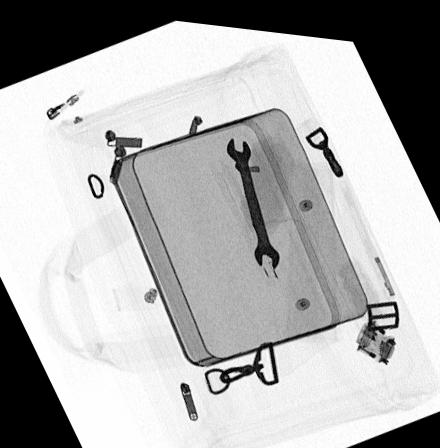Wrench: (224, 131, 280, 265)
